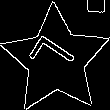L_SE: (28, 33, 84, 86)
